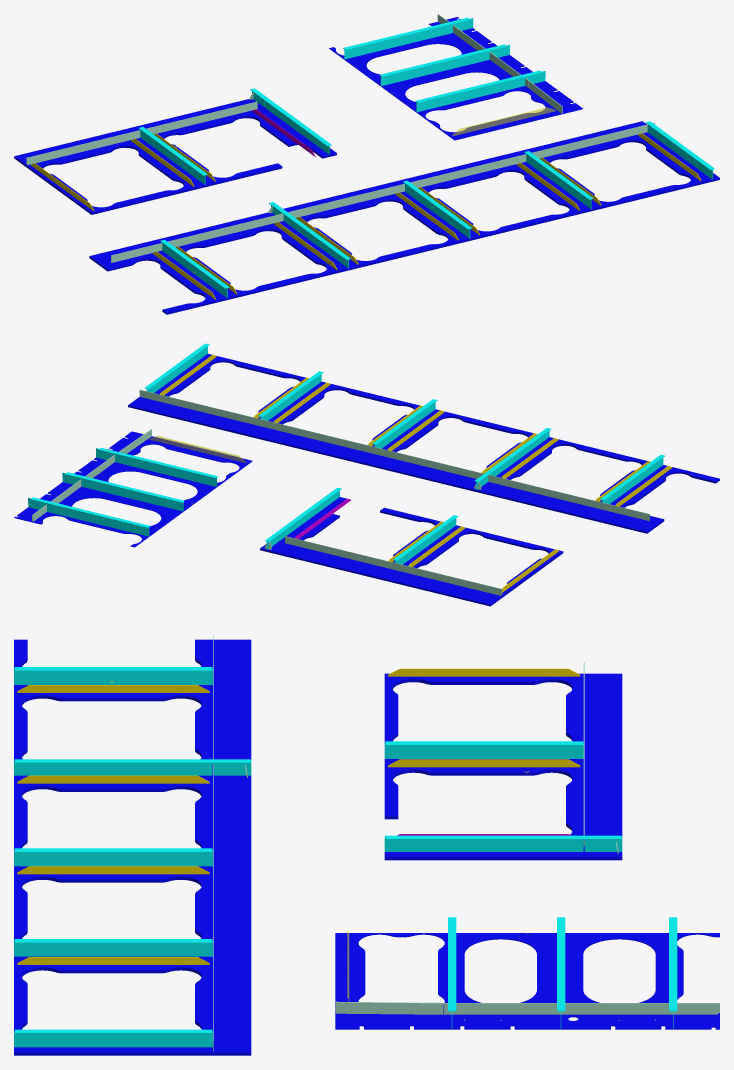
3 views of the same model, one above another, from view 1: azimuth 30°, elevation 25°; view 2: azimuth 150°, elevation 25°; view 3: azimuth 270°, elevation 25° (orthographic). The views are drawn at different scales.
Visible parts, largest first — view 1: 2089126984208; view 2: 2089126984208; view 3: 2089126984208.
Part boxes in pixels (x1,y1,x2,y2): 2089126984208: (14,14,719,314); 2089126984208: (14,343,719,606); 2089126984208: (14,635,719,1055).
Bounding box in the file's own units: 11.67 × 8.43 × 0.25.
